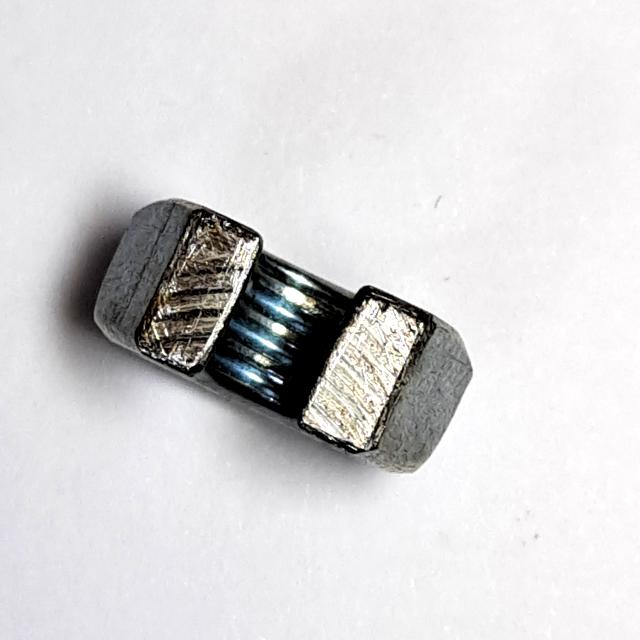Side-Fracture: (83, 188, 491, 485)
